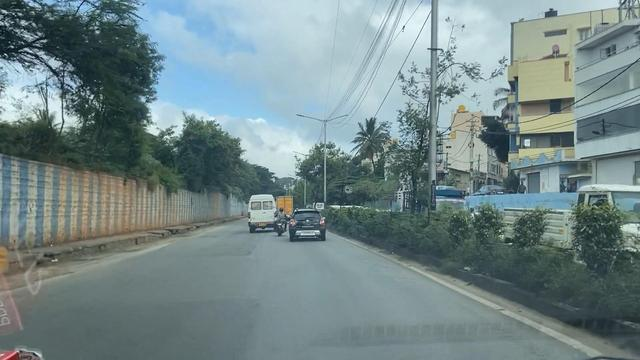HMV: (250, 195, 277, 235)
LMV: (291, 210, 327, 242), (275, 208, 287, 239)
